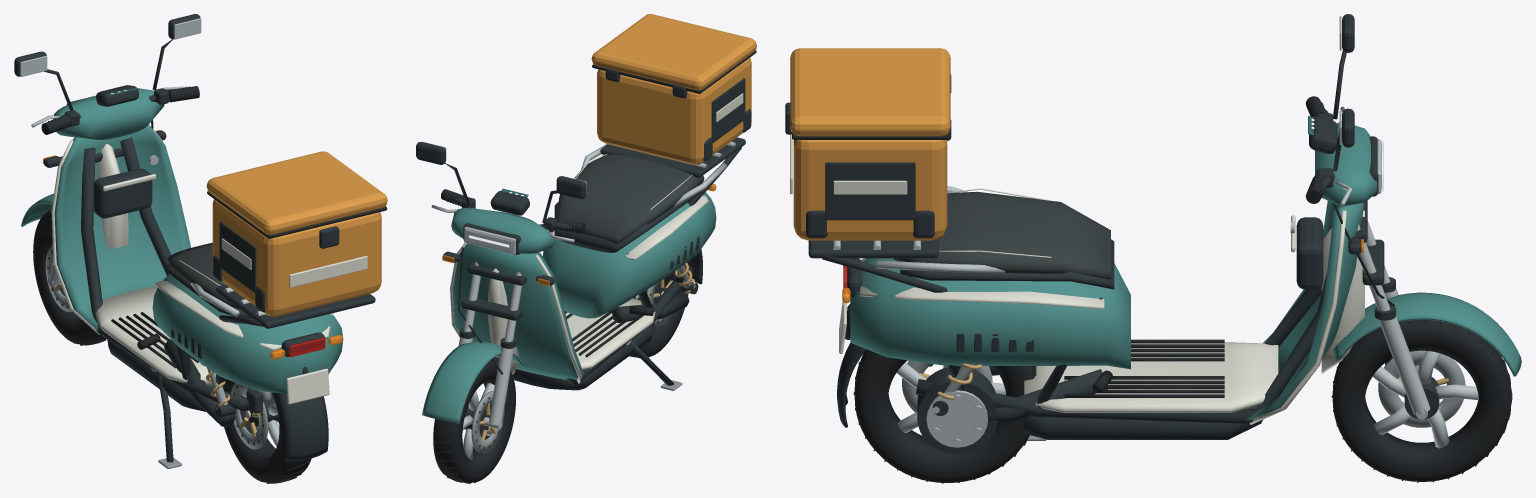
File: motorcycle-scooter.glb
3 renders of one model, left to right at view 1: azimuth 30°, elevation 25°; view 2: azimuth 150°, elevation 25°; view 3: azimuth 270°, elevation 25°, orthographic. The views are drawn at different scales.
Parts seen in each view (by area): view 1: scooter_root__01_body_enamel, delivery_box__13_delivery_ochre, scooter_root__03_powdercoat, scooter_root__02_ivory_trim, steering__01_body_enamel, wheel_rear__04_tire_rubber, wheel_front__04_tire_rubber, delivery_box__03_powdercoat, steering__03_powdercoat, scooter_root__05_grained_saddle, delivery_box__02_ivory_trim, steering__06_brushed_alloy (+9 smaller); view 2: delivery_box__13_delivery_ochre, scooter_root__01_body_enamel, scooter_root__05_grained_saddle, scooter_root__03_powdercoat, steering__01_body_enamel, scooter_root__02_ivory_trim, steering__03_powdercoat, wheel_front__04_tire_rubber, steering__06_brushed_alloy, delivery_box__03_powdercoat, scooter_root__04_tire_rubber, wheel_rear__04_tire_rubber (+7 smaller); view 3: scooter_root__01_body_enamel, scooter_root__03_powdercoat, delivery_box__13_delivery_ochre, scooter_root__02_ivory_trim, wheel_front__04_tire_rubber, scooter_root__05_grained_saddle, wheel_rear__04_tire_rubber, steering__01_body_enamel, delivery_box__03_powdercoat, scooter_root__04_tire_rubber, steering__03_powdercoat, scooter_root__06_brushed_alloy (+6 smaller).
Part boxes in pixels (left/top/right/bottom): scooter_root__01_body_enamel: left=54, top=125, right=343, bottom=393; delivery_box__13_delivery_ochre: left=206, top=151, right=387, bottom=316; scooter_root__03_powdercoat: left=43, top=130, right=375, bottom=461; scooter_root__02_ivory_trim: left=51, top=124, right=333, bottom=404; steering__01_body_enamel: left=21, top=88, right=164, bottom=226; wheel_rear__04_tire_rubber: left=224, top=379, right=311, bottom=483; wheel_front__04_tire_rubber: left=33, top=209, right=106, bottom=345; delivery_box__03_powdercoat: left=213, top=221, right=339, bottom=312; steering__03_powdercoat: left=14, top=14, right=200, bottom=162; scooter_root__05_grained_saddle: left=167, top=242, right=239, bottom=309; delivery_box__02_ivory_trim: left=221, top=238, right=367, bottom=287; steering__06_brushed_alloy: left=20, top=18, right=201, bottom=285; delivery_box__13_delivery_ochre: left=591, top=14, right=756, bottom=164; scooter_root__01_body_enamel: left=452, top=192, right=716, bottom=380; scooter_root__05_grained_saddle: left=556, top=154, right=704, bottom=243; scooter_root__03_powdercoat: left=443, top=137, right=745, bottom=390; steering__01_body_enamel: left=422, top=208, right=553, bottom=424; scooter_root__02_ivory_trim: left=450, top=154, right=708, bottom=383; steering__03_powdercoat: left=416, top=142, right=586, bottom=404; wheel_front__04_tire_rubber: left=433, top=357, right=515, bottom=483; steering__06_brushed_alloy: left=422, top=141, right=586, bottom=429; delivery_box__03_powdercoat: left=605, top=68, right=751, bottom=160; scooter_root__04_tire_rubber: left=564, top=306, right=653, bottom=357; wheel_rear__04_tire_rubber: left=629, top=260, right=690, bottom=357; scooter_root__01_body_enamel: left=850, top=201, right=1363, bottom=419; scooter_root__03_powdercoat: left=808, top=205, right=1361, bottom=454; delivery_box__13_delivery_ochre: left=790, top=48, right=950, bottom=240; scooter_root__02_ivory_trim: left=839, top=188, right=1364, bottom=424; wheel_front__04_tire_rubber: left=1331, top=319, right=1512, bottom=482; scooter_root__05_grained_saddle: left=893, top=191, right=1110, bottom=279; wheel_rear__04_tire_rubber: left=853, top=349, right=1036, bottom=483; steering__01_body_enamel: left=1315, top=121, right=1521, bottom=376; delivery_box__03_powdercoat: left=785, top=74, right=951, bottom=238; scooter_root__04_tire_rubber: left=1064, top=339, right=1224, bottom=397; steering__03_powdercoat: left=1309, top=14, right=1395, bottom=365; scooter_root__06_brushed_alloy: left=833, top=186, right=1294, bottom=447.
Bounding box in the file's own units: 0.805 × 1.35 × 2.2.
